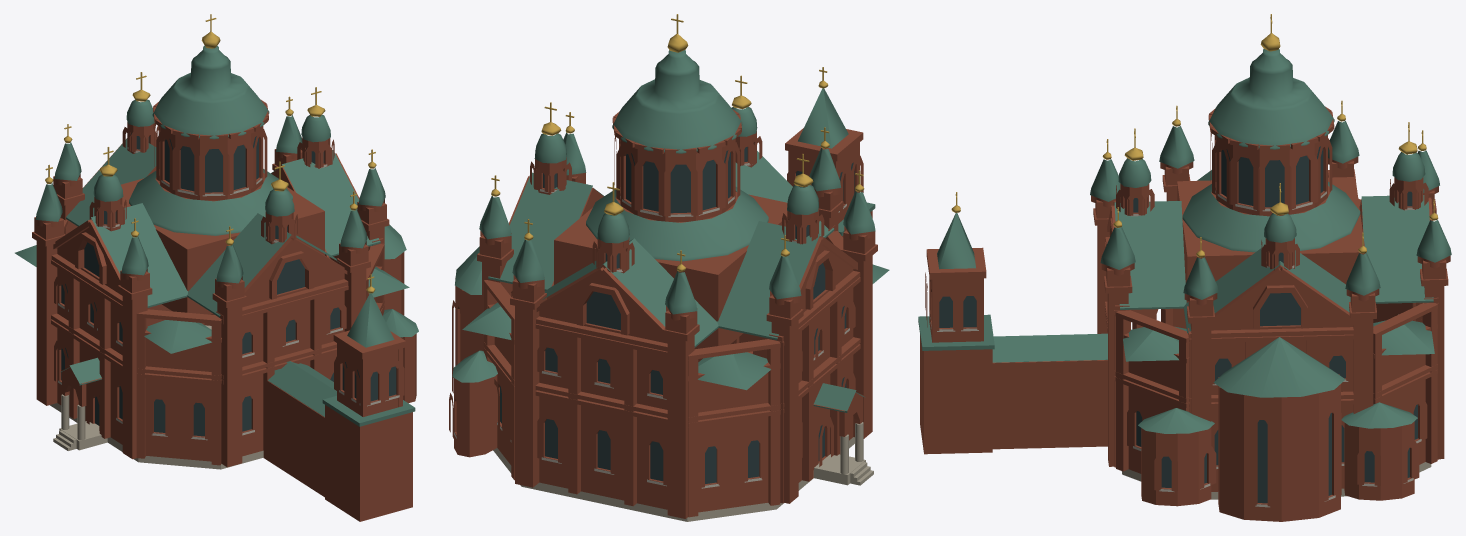
File: uspenski-cathedral-far.glb
The picture shows the model from 3 angles, left to right: view 1: azimuth 30°, elevation 25°; view 2: azimuth 150°, elevation 25°; view 3: azimuth 270°, elevation 25°; orthographic projection. The views are drawn at different scales.
Parts seen in each view (by area): view 1: uspenski-cathedral-0-brick, uspenski-cathedral-0-copper, uspenski-cathedral-0-glass, uspenski-cathedral-0-granite, uspenski-cathedral-0-lamp, uspenski-cathedral-0-trim; view 2: uspenski-cathedral-0-brick, uspenski-cathedral-0-copper, uspenski-cathedral-0-glass, uspenski-cathedral-0-granite, uspenski-cathedral-0-lamp, uspenski-cathedral-0-trim; view 3: uspenski-cathedral-0-brick, uspenski-cathedral-0-copper, uspenski-cathedral-0-glass, uspenski-cathedral-0-lamp, uspenski-cathedral-0-trim.
Boxes of the visible parts, bbox=[...] form: uspenski-cathedral-0-brick: bbox=[32, 99, 416, 521]; uspenski-cathedral-0-copper: bbox=[15, 45, 418, 426]; uspenski-cathedral-0-glass: bbox=[61, 133, 396, 436]; uspenski-cathedral-0-granite: bbox=[50, 325, 263, 469]; uspenski-cathedral-0-lamp: bbox=[45, 14, 376, 293]; uspenski-cathedral-0-trim: bbox=[58, 147, 399, 440]; uspenski-cathedral-0-brick: bbox=[449, 109, 877, 518]; uspenski-cathedral-0-copper: bbox=[452, 50, 889, 412]; uspenski-cathedral-0-glass: bbox=[500, 147, 854, 483]; uspenski-cathedral-0-granite: bbox=[493, 422, 873, 521]; uspenski-cathedral-0-lamp: bbox=[491, 14, 864, 271]; uspenski-cathedral-0-trim: bbox=[454, 163, 849, 488]; uspenski-cathedral-0-brick: bbox=[920, 106, 1450, 521]; uspenski-cathedral-0-copper: bbox=[918, 49, 1451, 433]; uspenski-cathedral-0-glass: bbox=[939, 146, 1417, 503]; uspenski-cathedral-0-lamp: bbox=[951, 14, 1438, 257]; uspenski-cathedral-0-trim: bbox=[929, 191, 1421, 507].
Bounding box in the file's own units: 35.73 × 37.84 × 43.79.
